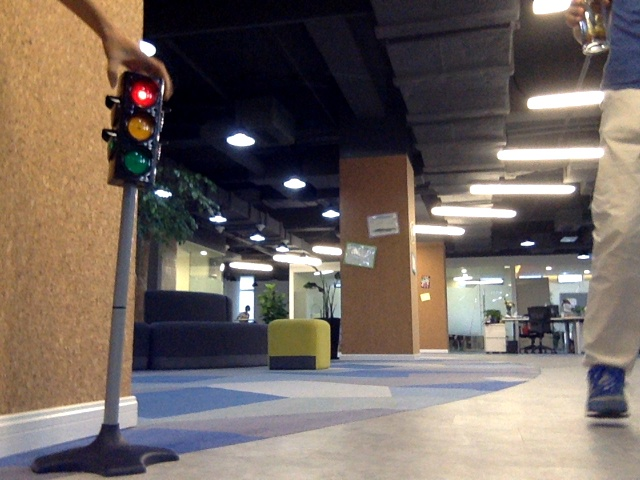red: (122, 79, 155, 184)
